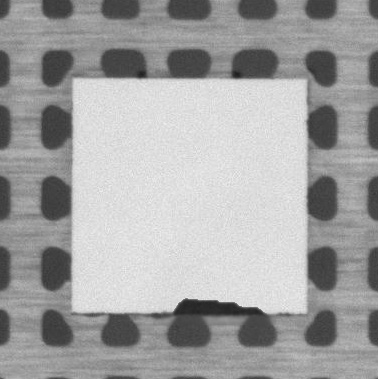DIE_BROKEN: (169, 296, 272, 318)
